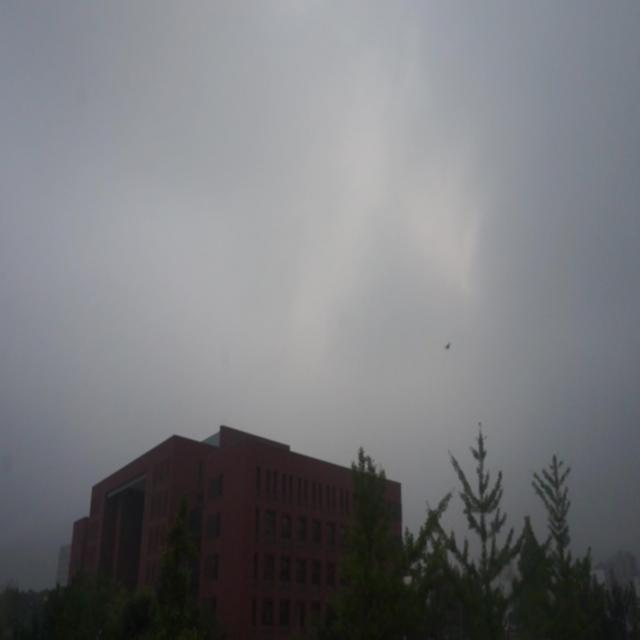UAV: (444, 341, 452, 351)
